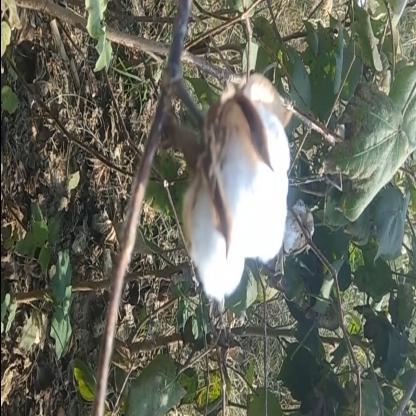cotton_ready: (161, 44, 307, 314)
